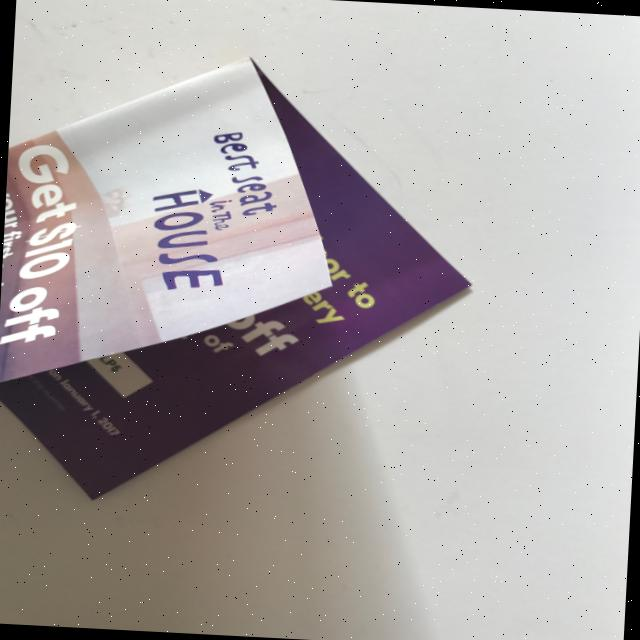paper: (0, 43, 479, 521)
